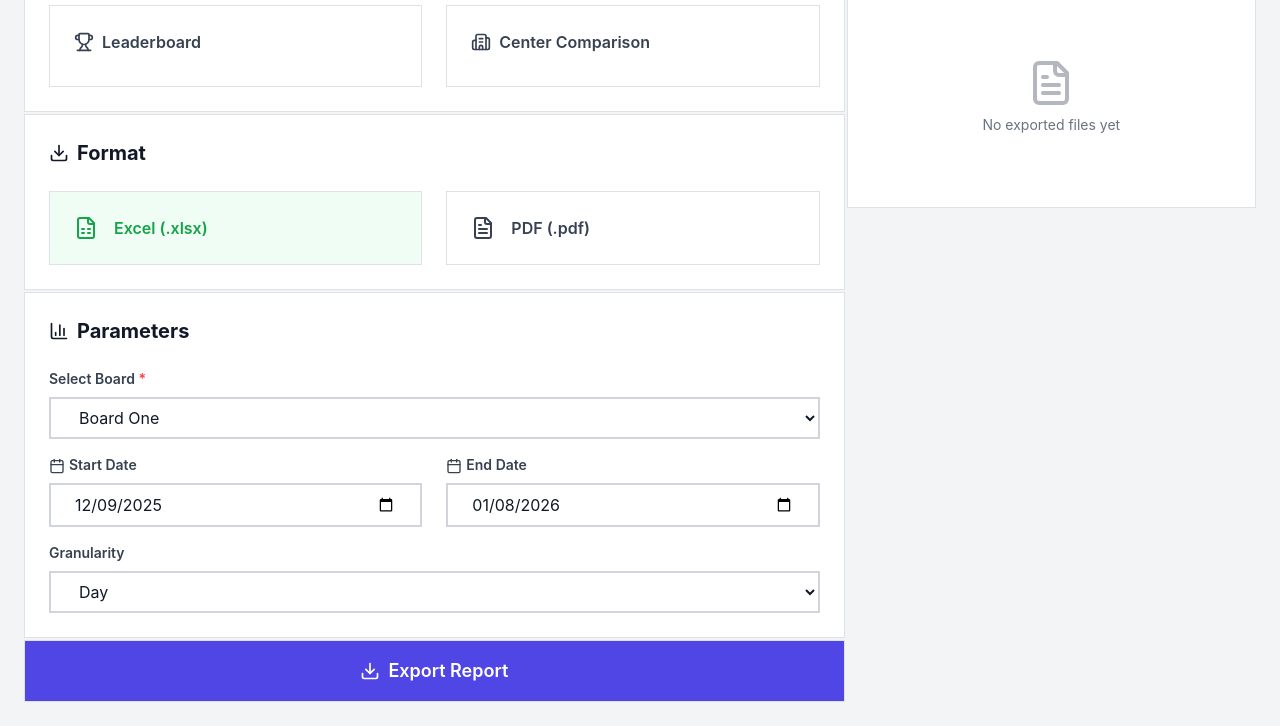
ExportReports › exports dashboard report and refreshes file list
The image size is (1280, 726).
(page scrolled)
What coordinates should you click on to do the following:
click the button "Export Report"
I would click on:
 (434, 671)
Its box is [24,640,845,702].
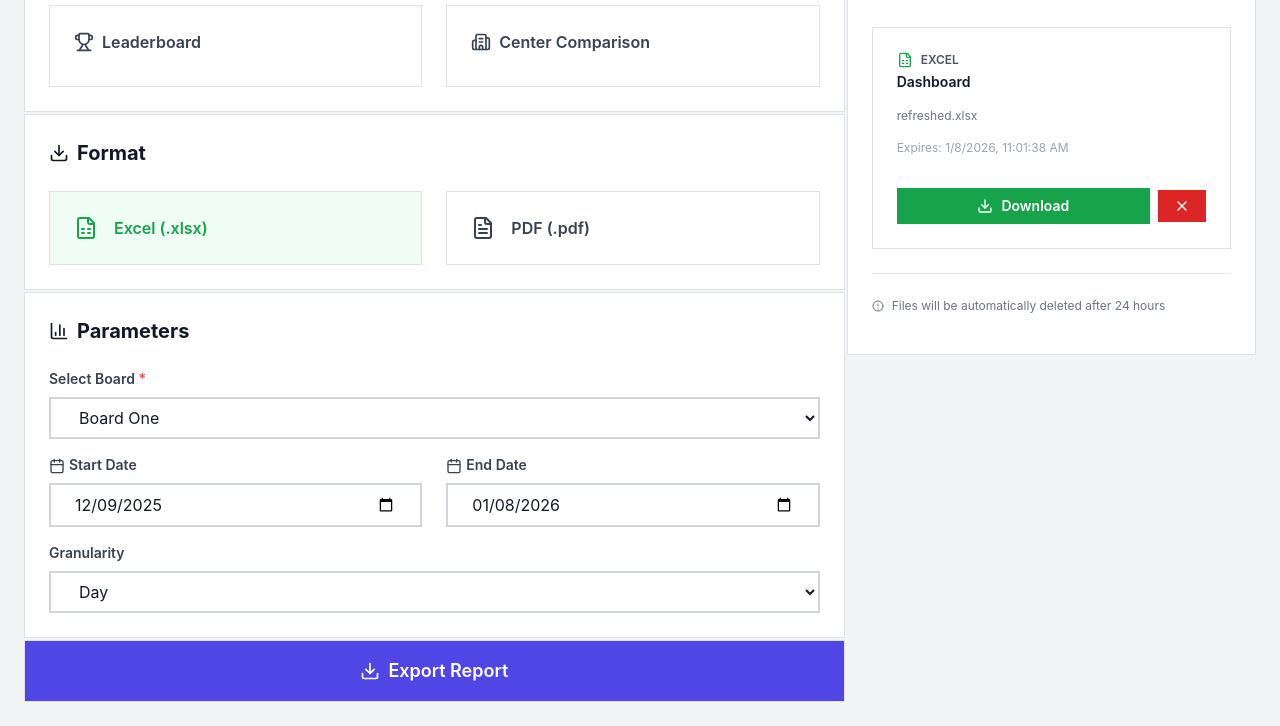
Expected: the text "refreshed.xlsx" is shown, [897,108,977,123]
